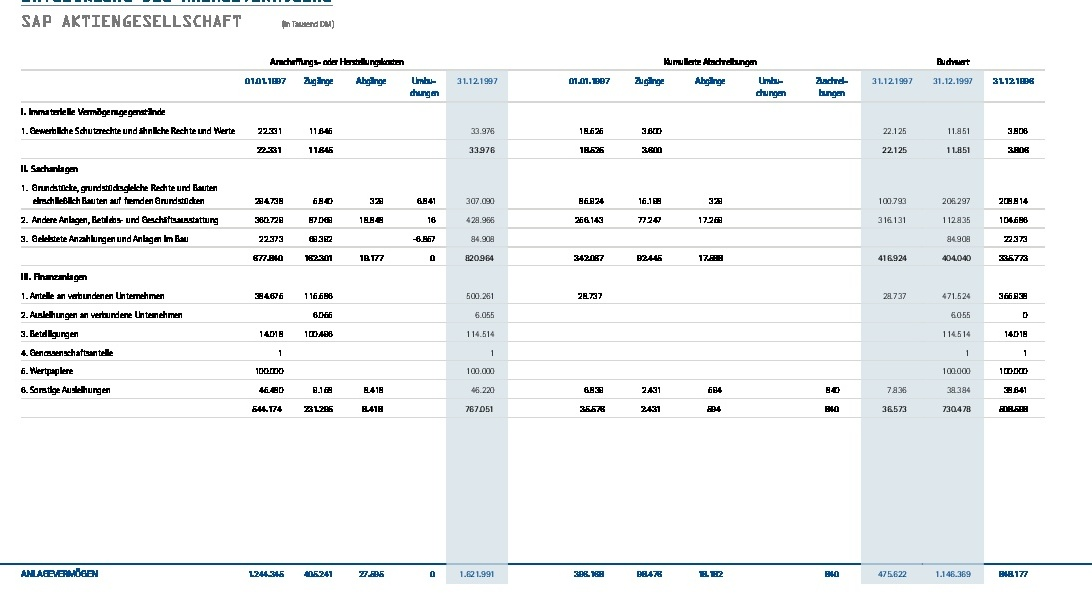table: (0, 0, 1092, 600)
